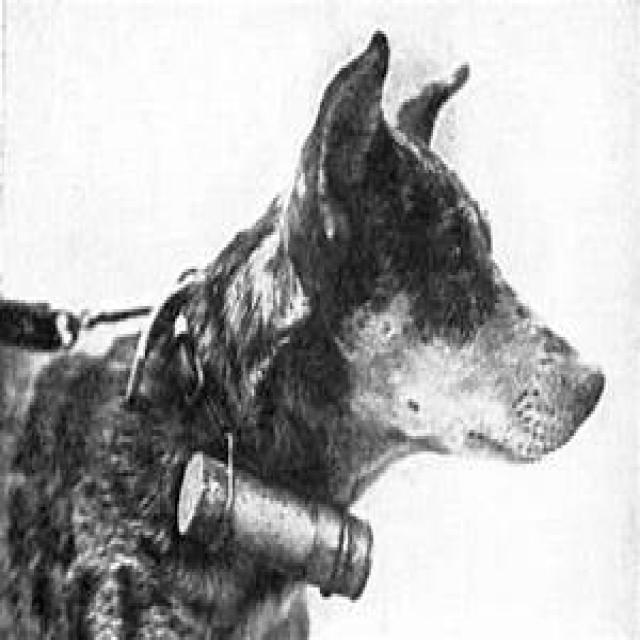dog: (0, 31, 606, 640)
